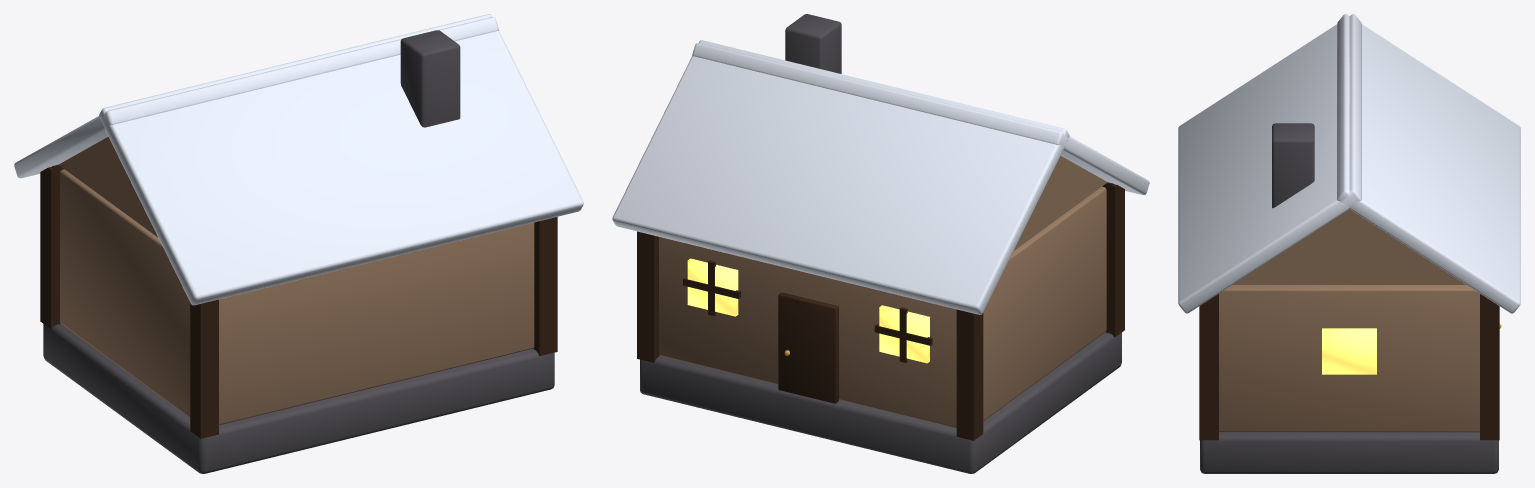
Rendered from house_snow.glb.
3 renders of one model, left to right at view 1: azimuth 30°, elevation 25°; view 2: azimuth 150°, elevation 25°; view 3: azimuth 270°, elevation 25°, orthographic. The views are drawn at different scales.
Parts seen in each view (by area): view 1: house_snow; view 2: house_snow; view 3: house_snow.
Boxes of the visible parts, <box> form: house_snow: <box>14,14,583,473</box>; house_snow: <box>612,14,1149,473</box>; house_snow: <box>1178,14,1520,473</box>.
Bounding box in the file's own units: 6.9 × 5.6 × 5.61.
